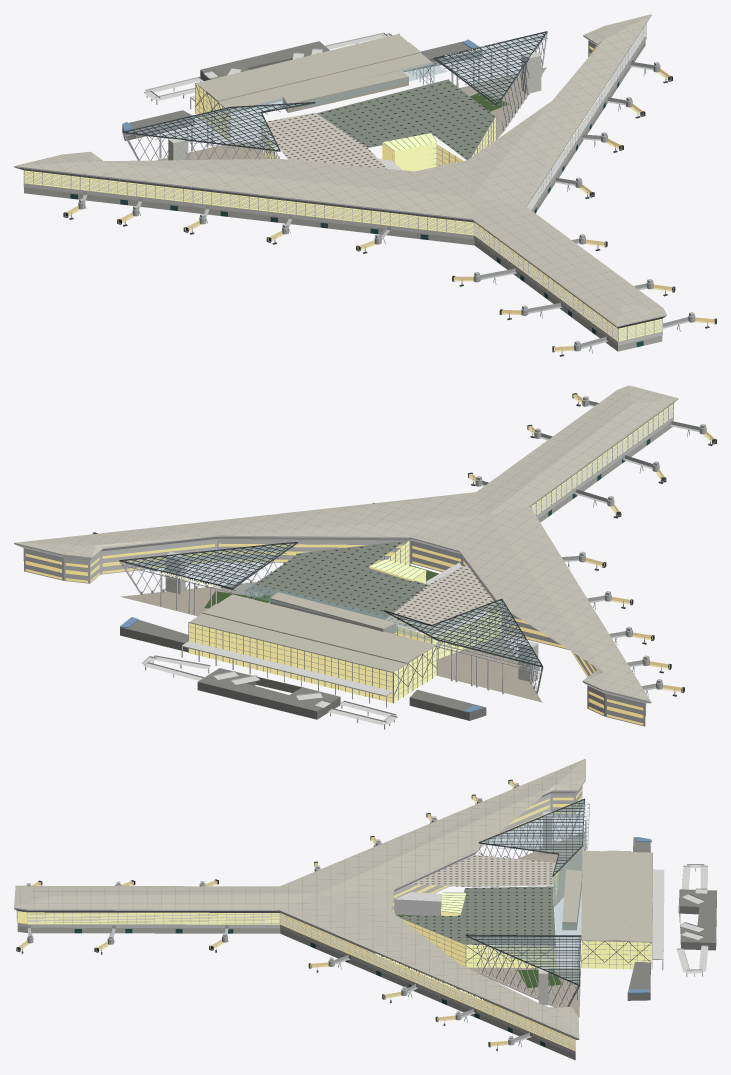
Rendered from islamabad_airport_terminal.glb.
3 views of the same model, one above another, from view 1: azimuth 30°, elevation 25°; view 2: azimuth 150°, elevation 25°; view 3: azimuth 270°, elevation 25° (orthographic). The views are drawn at different scales.
Parts seen in each view (by area): view 1: m_pier_roof, m_white_plain, m_teal_glass, m_front_roof, m_hall_roof, m_roof_glass, m_roof_steel, m_truss_steel, m_apron_wall, m_terrace_roof, m_low_block_grey, m_bridge_grey (+5 smaller); view 2: m_pier_roof, m_teal_glass, m_white_plain, m_front_roof, m_hall_roof, m_white_cladding, m_roof_glass, m_truss_steel, m_roof_steel, m_low_block_grey, m_paving, m_ribbon_glass (+5 smaller); view 3: m_pier_roof, m_white_plain, m_teal_glass, m_front_roof, m_hall_roof, m_roof_glass, m_truss_steel, m_roof_steel, m_terrace_roof, m_paving, m_apron_wall, m_low_block_grey (+7 smaller).
Boxes of the visible parts, left/top/right/bottom form: m_pier_roof: left=14, top=14, right=666, bottom=325; m_white_plain: left=14, top=15, right=666, bottom=345; m_teal_glass: left=24, top=83, right=662, bottom=341; m_front_roof: left=196, top=34, right=432, bottom=112; m_hall_roof: left=317, top=79, right=495, bottom=159; m_roof_glass: left=128, top=33, right=545, bottom=149; m_roof_steel: left=63, top=31, right=716, bottom=356; m_truss_steel: left=122, top=33, right=547, bottom=166; m_apron_wall: left=24, top=41, right=662, bottom=351; m_terrace_roof: left=262, top=112, right=386, bottom=168; m_low_block_grey: left=122, top=41, right=481, bottom=140; m_bridge_grey: left=71, top=61, right=707, bottom=354; m_pier_roof: left=14, top=385, right=677, bottom=701; m_teal_glass: left=189, top=404, right=672, bottom=702; m_white_plain: left=14, top=398, right=678, bottom=729; m_front_roof: left=190, top=592, right=435, bottom=671; m_hall_roof: left=246, top=540, right=427, bottom=619; m_white_cladding: left=24, top=539, right=645, bottom=726; m_roof_glass: left=125, top=543, right=541, bottom=665; m_truss_steel: left=119, top=540, right=543, bottom=703; m_roof_steel: left=92, top=393, right=716, bottom=696; m_low_block_grey: left=120, top=619, right=486, bottom=720; m_paving: left=120, top=582, right=542, bottom=702; m_ribbon_glass: left=25, top=543, right=643, bottom=725; m_pier_roof: left=14, top=758, right=585, bottom=1038; m_white_plain: left=14, top=780, right=708, bottom=1054; m_teal_glass: left=17, top=865, right=652, bottom=1050; m_front_roof: left=562, top=850, right=652, bottom=941; m_hall_roof: left=397, top=886, right=555, bottom=945; m_roof_glass: left=471, top=800, right=584, bottom=984; m_truss_steel: left=401, top=800, right=652, bottom=1007; m_roof_steel: left=16, top=779, right=651, bottom=1050; m_terrace_roof: left=412, top=855, right=558, bottom=886; m_paving: left=467, top=831, right=584, bottom=1017; m_apron_wall: left=17, top=926, right=575, bottom=1060; m_low_block_grey: left=627, top=837, right=716, bottom=1000.
Bounding box in the file's own units: 564 × 30.88 × 598.
22 materials, 5 textured.
